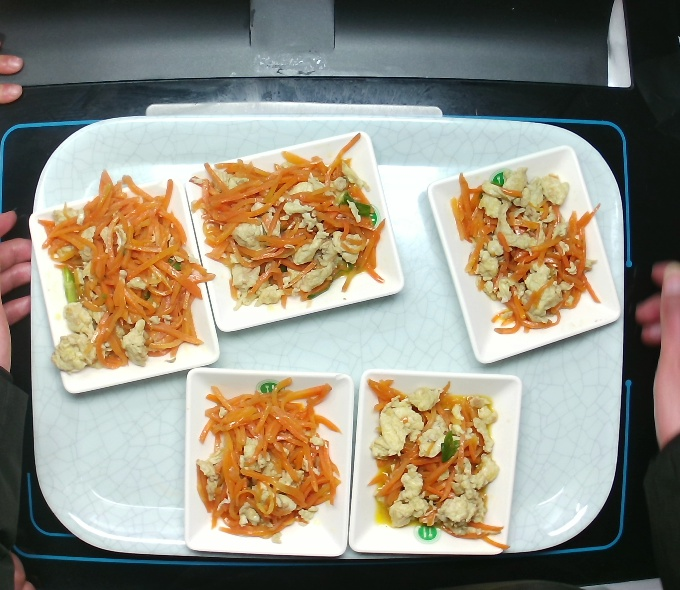wcq-HuLuoBoChaoDan: (191, 148, 394, 299), (42, 178, 205, 360), (196, 366, 335, 541), (453, 164, 597, 331), (363, 380, 510, 540)
